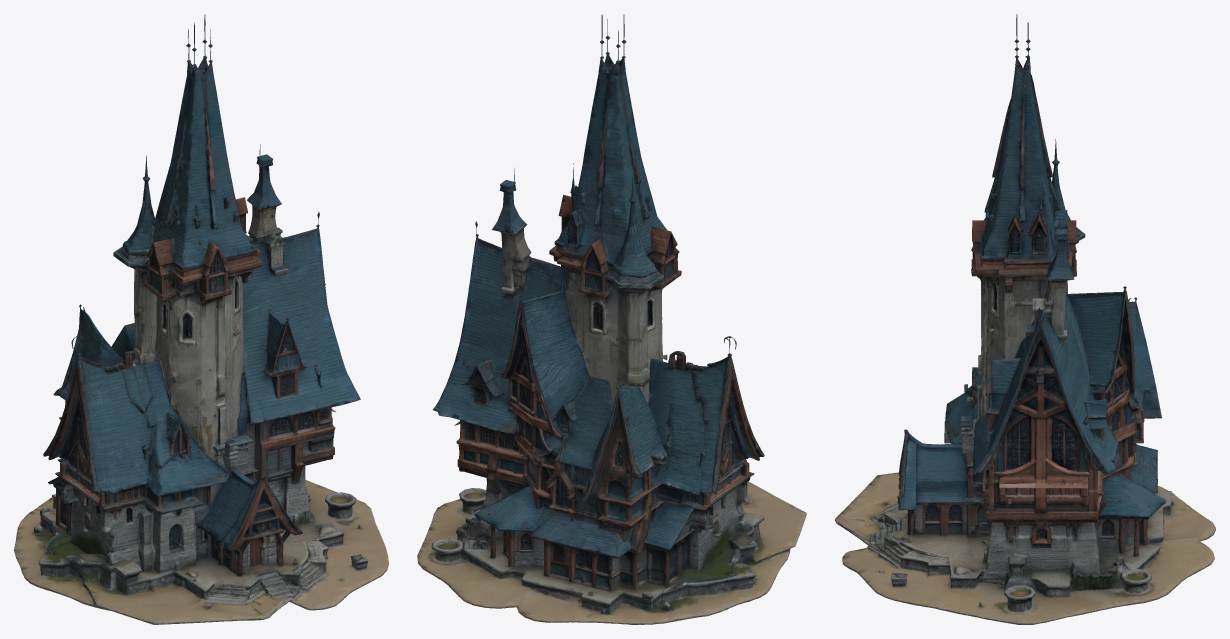
Rendered from fantasy-castle.glb.
The picture shows the model from 3 angles, left to right: view 1: azimuth 30°, elevation 25°; view 2: azimuth 150°, elevation 25°; view 3: azimuth 270°, elevation 25°; orthographic projection.
Visible parts, largest first — view 1: tripo_node_9ddd5d7a-51b9-437f-9470-630d2e17f49e; view 2: tripo_node_9ddd5d7a-51b9-437f-9470-630d2e17f49e; view 3: tripo_node_9ddd5d7a-51b9-437f-9470-630d2e17f49e.
Boxes of the visible parts, <box> form: tripo_node_9ddd5d7a-51b9-437f-9470-630d2e17f49e: <box>14,14,388,624</box>; tripo_node_9ddd5d7a-51b9-437f-9470-630d2e17f49e: <box>417,14,806,624</box>; tripo_node_9ddd5d7a-51b9-437f-9470-630d2e17f49e: <box>835,14,1215,624</box>.
Bounding box in the file's own units: 0.6516 × 1 × 0.6568.
Materials: 1 (1 with a texture image).
